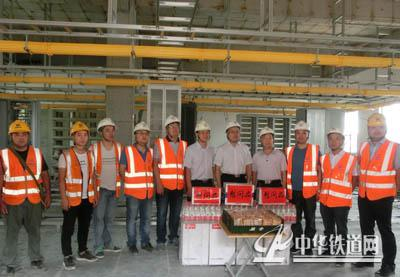helmet: (7, 117, 32, 150), (365, 111, 390, 141), (69, 119, 90, 148), (96, 116, 119, 141), (326, 125, 347, 151), (164, 115, 183, 141), (293, 118, 311, 145), (257, 126, 277, 150), (133, 121, 151, 147), (193, 121, 214, 142), (225, 119, 242, 144)
